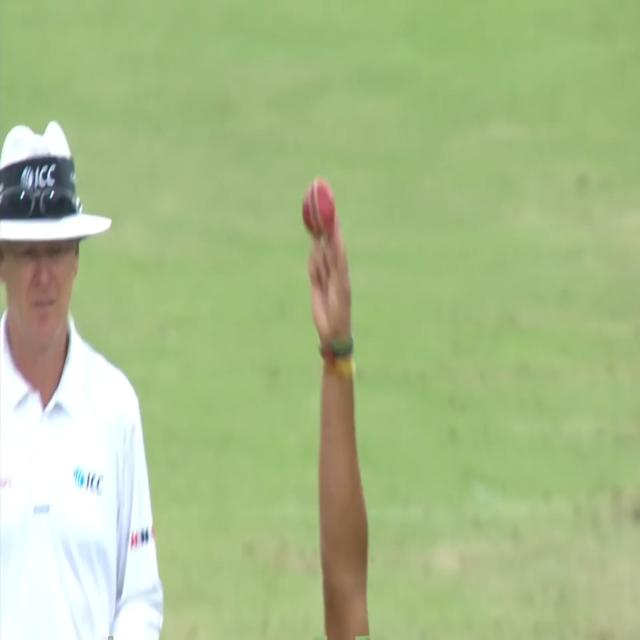ball: (301, 177, 335, 241)
